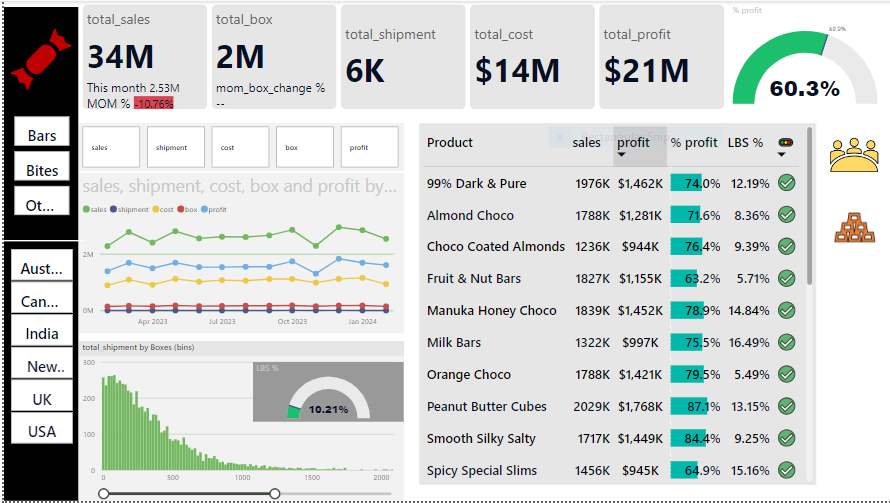

The page's visual inventory and layout, read from the dashboard file:
{"tool":"powerbi","page":{"name":"Page 3","canvas":[1280,720],"ordinal":0},"visuals":[{"type":"shape","box":[0,8.9,107.2,711.4],"z":0},{"type":"cardVisual","fields":{"Data":["_measure.total_sales","_measure.total_box","_measure.total_shipment","_measure.total_cost","_measure.total_profit"]},"box":[108.2,0,935.6,161.5],"z":1000},{"type":"gauge","fields":{"Y":["_measure.% profit"]},"box":[1043.3,4.5,219.4,150.7],"z":2000},{"type":"lineChart","fields":{"Y":["_measure.total_sales","_measure.total_shipment","_measure.total_cost","_measure.total_box","_measure.total_profit"],"Category":["calendar.Start of Month"]},"box":[107.8,247.6,468.2,230.7],"z":3000},{"type":"advancedSlicerVisual","fields":{"Values":["Parameter.Parameter"]},"box":[107.8,175.2,468.2,69.1],"z":4000},{"type":"columnChart","fields":{"Category":["shipments.Boxes (bins)"],"Y":["_measure.total_shipment"]},"box":[107.8,490.1,468.2,230.7],"z":5000},{"type":"gauge","fields":{"Y":["_measure.LBS %"]},"box":[358.7,520.4,217.3,85.9],"z":6000},{"type":"image","box":[0,9.3,107.4,151.9],"z":7000},{"type":"advancedSlicerVisual","fields":{"Values":["products.Category"]},"box":[10.8,161.5,89.2,153.8],"z":8000},{"type":"advancedSlicerVisual","fields":{"Values":["locations.Geo"]},"box":[10.4,357.2,89.3,282.8],"z":9000},{"type":"shape","box":[0,329.2,113.8,30.8],"z":10000},{"type":"tableEx","title":"product_details","fields":{"Values":["products.Product","_measure.total_sales","_measure.total_profit","_measure.% profit","_measure.LBS %","_measure.profit_target_indicator"]},"box":[597.2,175.8,572.4,520.6],"z":12000},{"type":"image","title":"people_icon","box":[1169.6,175.8,110.4,92.4],"z":13000},{"type":"image","title":"product_icon","box":[1185.1,288.1,80.6,76.1],"z":14000}]}

Visuals, with their boxes in screenshot pixels (x1, y1, x2, y2), scaled from the page's 1280x720 canvas onto the 890x503 screenshot:
shape: (0,6,75,502)
cardVisual - _measure.total_sales x _measure.total_box: (75,0,726,113)
gauge - _measure.% profit: (725,3,878,108)
lineChart - _measure.total_sales x _measure.total_shipment: (75,173,400,334)
advancedSlicerVisual - Parameter.Parameter: (75,122,400,171)
columnChart - shipments.Boxes (bins) x _measure.total_shipment: (75,342,400,502)
gauge - _measure.LBS %: (249,364,400,424)
image: (0,6,75,113)
advancedSlicerVisual - products.Category: (8,113,70,220)
advancedSlicerVisual - locations.Geo: (7,250,69,447)
shape: (0,230,79,252)
"product_details" tableEx: (415,123,813,487)
"people_icon" image: (813,123,889,187)
"product_icon" image: (824,201,880,254)
